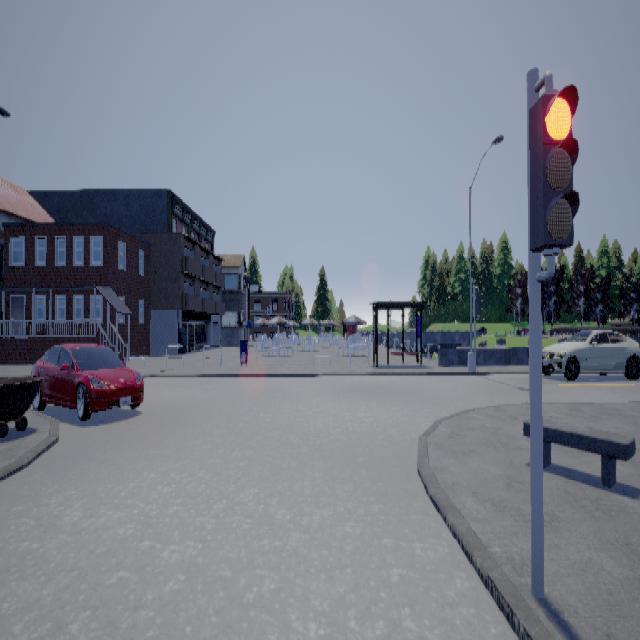red_light: (528, 69, 579, 281)
vehicle: (30, 342, 143, 419), (541, 328, 639, 379)
